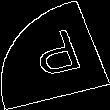P_S: (23, 25, 87, 85)
